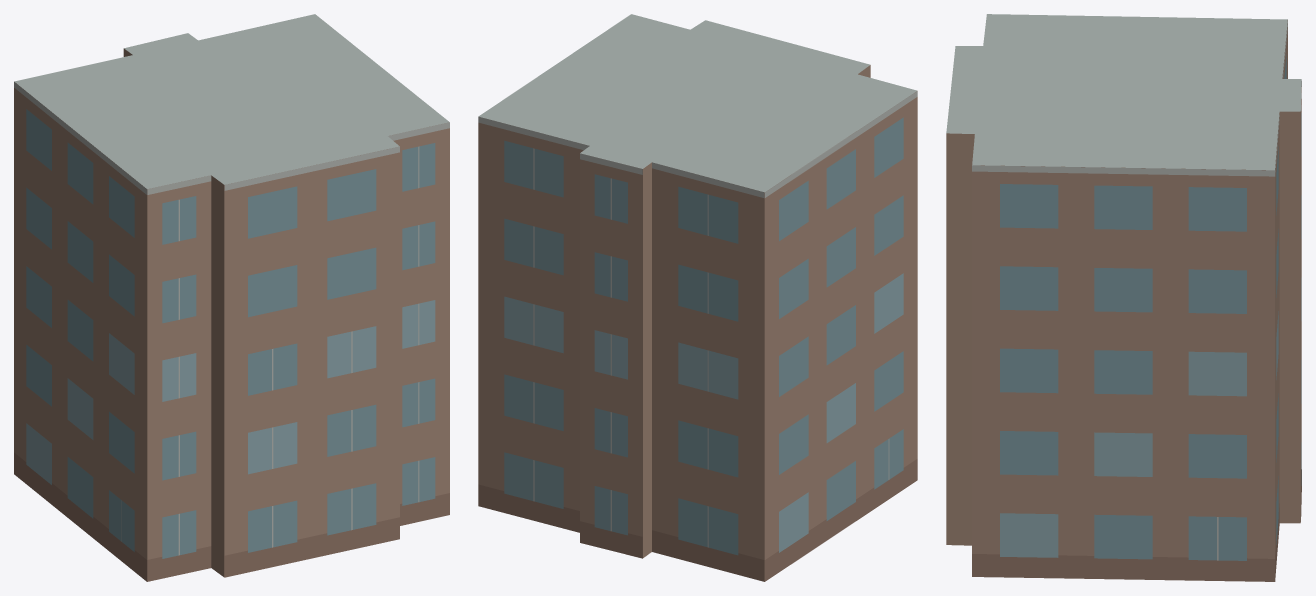
The model's file is survey-upis-32868013.glb.
3 renders of one model, left to right at view 1: azimuth 30°, elevation 25°; view 2: azimuth 150°, elevation 25°; view 3: azimuth 270°, elevation 25°, orthographic. The views are drawn at different scales.
Visible parts, largest first — view 1: survey-upis-32868013.tmp; view 2: survey-upis-32868013.tmp; view 3: survey-upis-32868013.tmp.
Boxes of the visible parts, x1=… form: survey-upis-32868013.tmp: x1=14, y1=14, x2=449, y2=581; survey-upis-32868013.tmp: x1=478, y1=14, x2=917, y2=581; survey-upis-32868013.tmp: x1=946, y1=14, x2=1301, y2=581.
Size of the model in its own units: 12.96 by 15.9 by 12.46.
